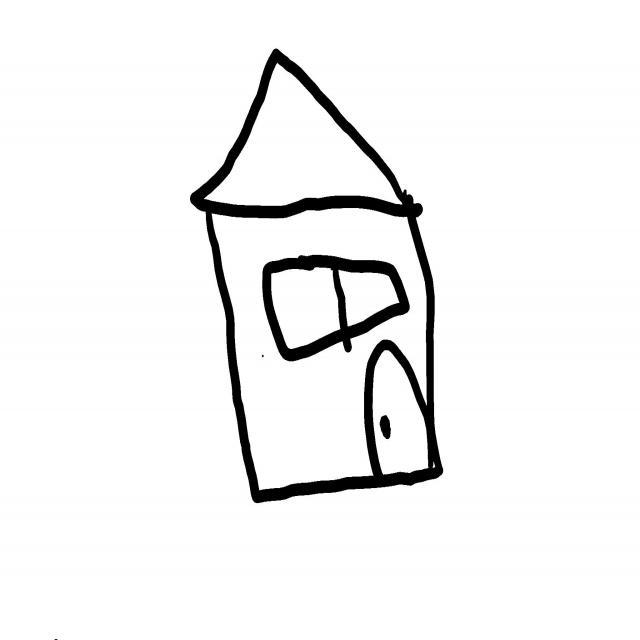door: (373, 352, 429, 476)
house: (191, 49, 443, 503)
roof: (181, 44, 421, 221)
wall: (199, 201, 442, 484)
window: (263, 255, 410, 362)
